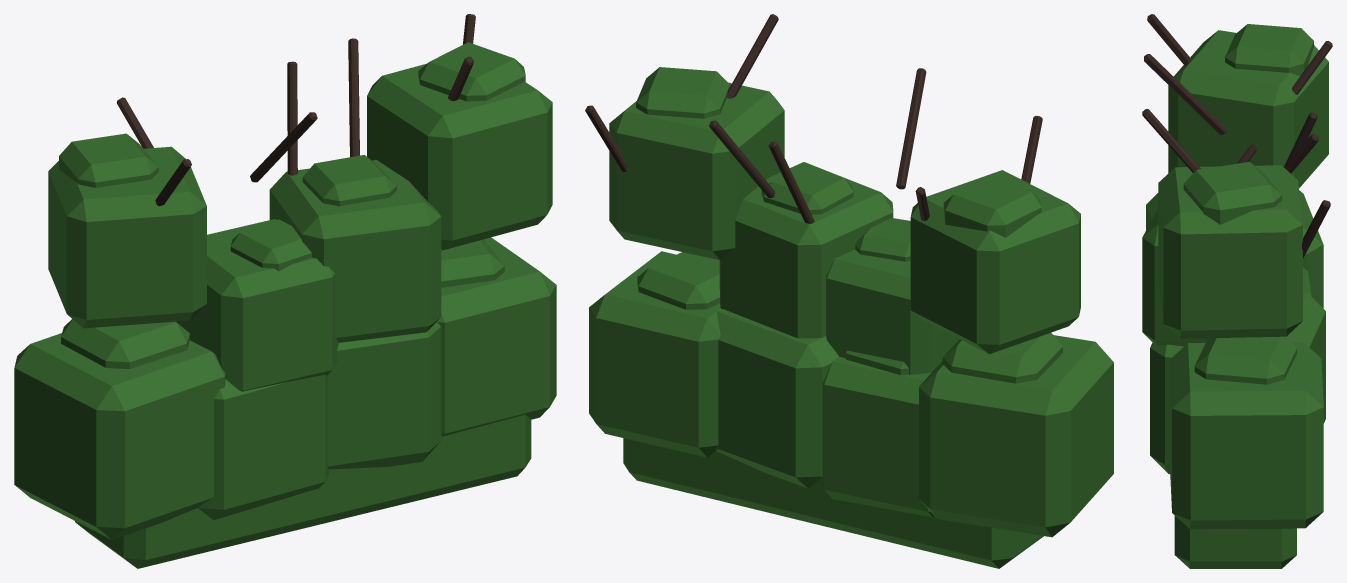
Rendered from Hedge3.fbx.
The picture shows the model from 3 angles, left to right: view 1: azimuth 30°, elevation 25°; view 2: azimuth 150°, elevation 25°; view 3: azimuth 270°, elevation 25°; orthographic projection. The views are drawn at different scales.
Visible parts, largest first — view 1: Hedge, Twig; view 2: Hedge, Twig; view 3: Hedge, Twig.
Part boxes in pixels (box(x1,y1,x2,y2)): Hedge: box(14, 42, 556, 568); Twig: box(117, 14, 475, 206); Hedge: box(589, 67, 1113, 568); Twig: box(585, 14, 1042, 223); Hedge: box(1142, 24, 1328, 568); Twig: box(1142, 14, 1332, 258).
Bounding box in the file's own units: 14.05 × 12.32 × 4.98.
